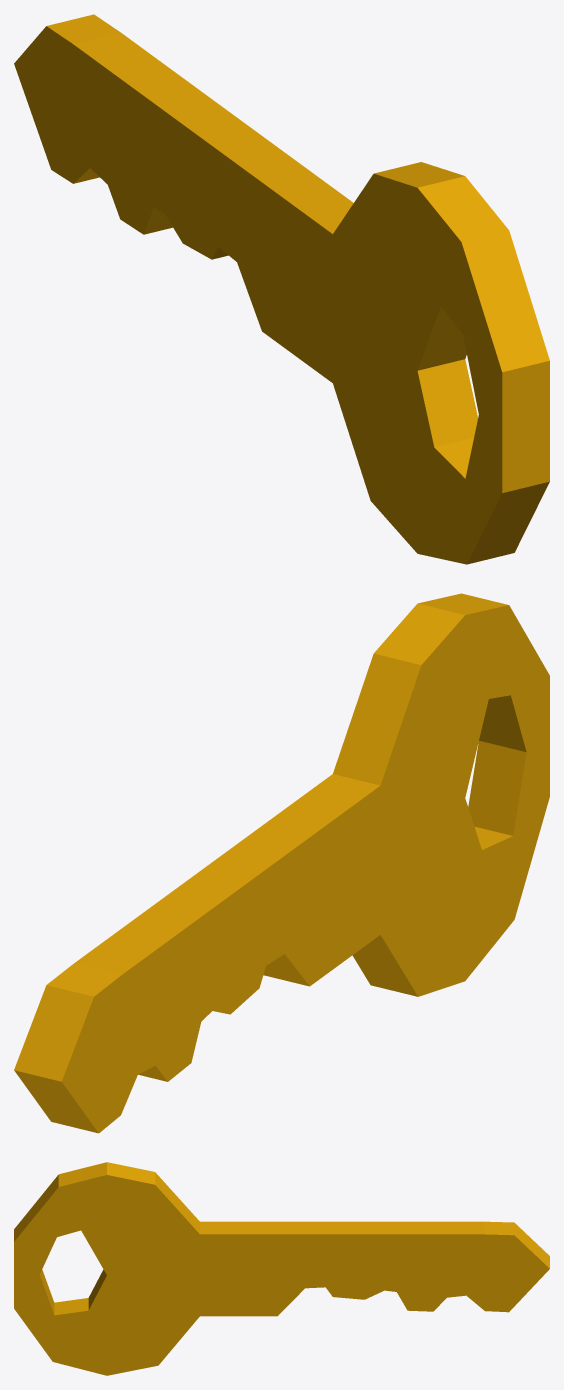
Rendered from Key.fbx.
3 renders of one model, top to bottom at view 1: azimuth 30°, elevation 25°; view 2: azimuth 150°, elevation 25°; view 3: azimuth 270°, elevation 25°, orthographic. The views are drawn at different scales.
Parts seen in each view (by area): view 1: Cube; view 2: Cube; view 3: Cube.
Boxes of the visible parts, left/top/right/bottom form: Cube: left=14, top=14, right=549, bottom=564; Cube: left=14, top=593, right=549, bottom=1133; Cube: left=14, top=1162, right=549, bottom=1375.
Size of the model in its own units: 6.75 by 49.48 by 120.
